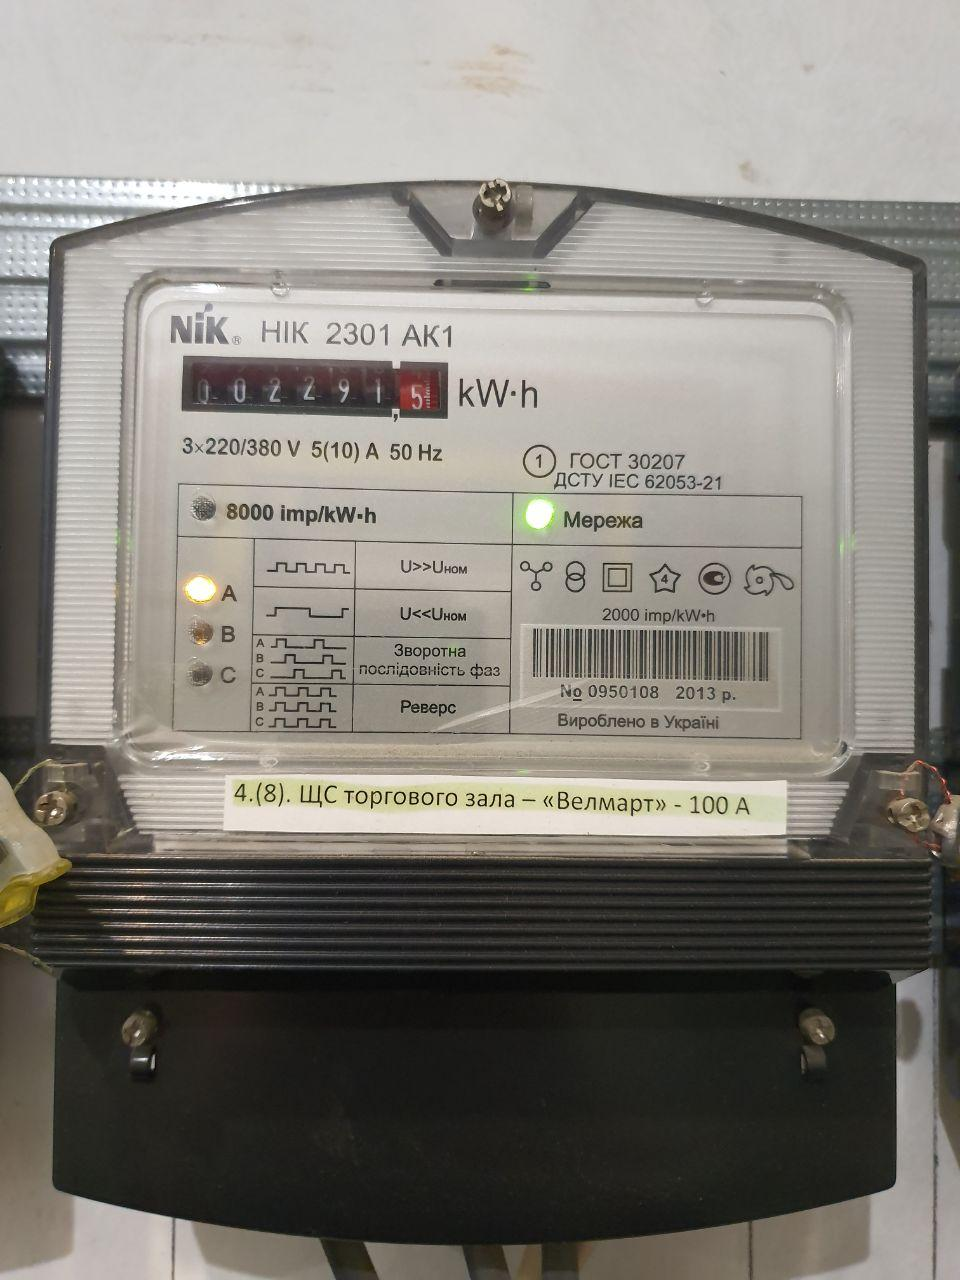0: (194, 375, 212, 404), (232, 375, 248, 404)
1: (371, 374, 385, 408)
2: (267, 375, 283, 404), (302, 373, 316, 402)
5: (409, 381, 425, 411)
9: (336, 375, 352, 405)
screen: (177, 350, 454, 426)
